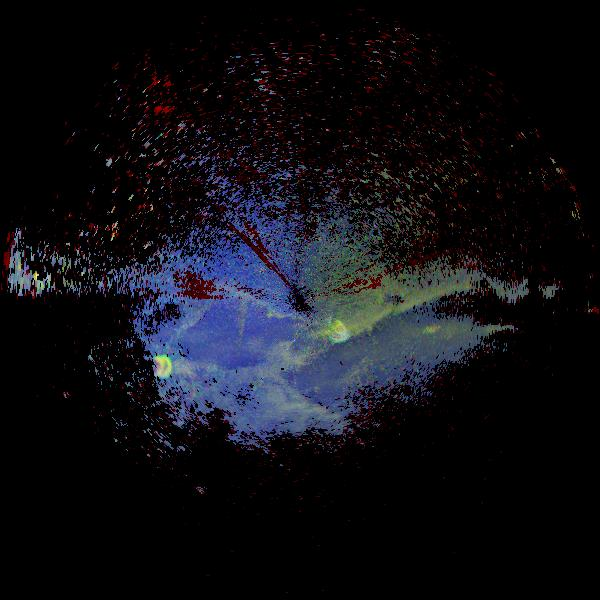roost: (140, 344, 185, 389)
